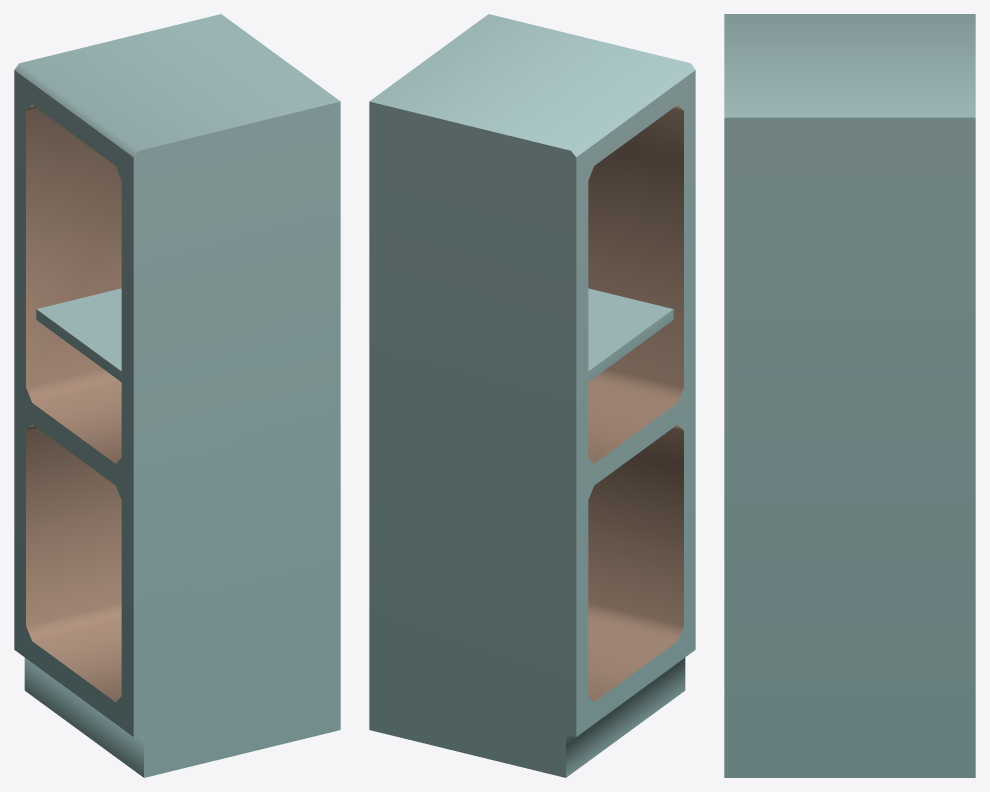
The model's file is cabinet-decorative-high-divider.glb.
3 renders of one model, left to right at view 1: azimuth 30°, elevation 25°; view 2: azimuth 150°, elevation 25°; view 3: azimuth 270°, elevation 25°, orthographic. The views are drawn at different scales.
Visible parts, largest first — view 1: cabinet-decorative-high-divider; view 2: cabinet-decorative-high-divider; view 3: cabinet-decorative-high-divider.
Boxes of the visible parts, left/top/right/bottom form: cabinet-decorative-high-divider: left=14, top=14, right=340, bottom=777; cabinet-decorative-high-divider: left=369, top=14, right=695, bottom=777; cabinet-decorative-high-divider: left=724, top=14, right=975, bottom=777.
Size of the model in its own units: 0.5 by 1.45 by 0.5.
